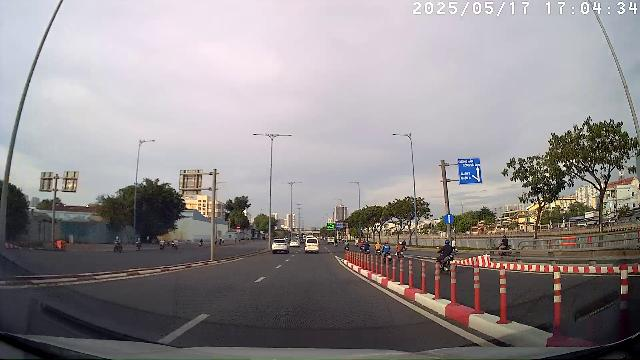301a-cac-xe-chi-duoc-di-thang: (444, 214, 454, 224)
